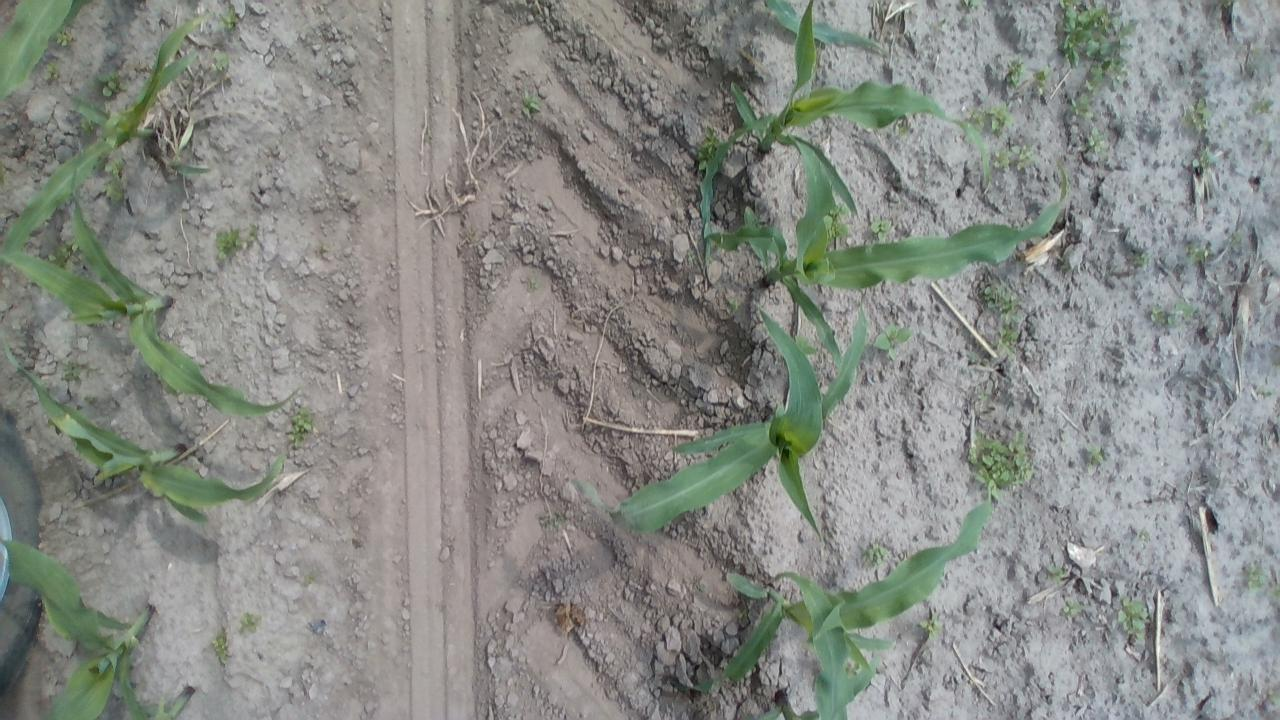Maize: (710, 138, 1082, 378), (0, 148, 298, 424), (703, 6, 998, 268), (570, 299, 876, 532), (697, 494, 1008, 706), (0, 332, 289, 524), (0, 6, 208, 257), (0, 535, 175, 720), (759, 1, 890, 74), (3, 0, 86, 103), (748, 657, 878, 720), (134, 682, 202, 718)
Weeds: (1056, 0, 1128, 80), (963, 429, 1034, 496), (980, 278, 1028, 356), (212, 224, 262, 264), (1114, 594, 1152, 642), (95, 155, 131, 204), (966, 101, 1020, 133), (872, 322, 914, 359), (1148, 296, 1198, 326), (286, 402, 316, 451), (1093, 56, 1133, 91), (824, 200, 854, 244), (1182, 94, 1212, 134), (54, 358, 95, 387), (693, 124, 720, 168), (44, 239, 82, 270), (209, 627, 235, 667), (518, 87, 545, 124), (95, 69, 128, 99), (858, 540, 892, 568), (1068, 88, 1096, 122), (1001, 56, 1027, 92), (1183, 239, 1216, 265), (1241, 559, 1267, 592), (1085, 124, 1110, 157), (866, 216, 898, 241), (538, 510, 567, 536), (1058, 596, 1087, 622), (236, 609, 264, 635), (38, 58, 62, 88), (917, 615, 945, 640), (1191, 144, 1216, 172), (970, 384, 996, 410), (219, 7, 243, 35), (1011, 143, 1036, 169), (1044, 562, 1069, 588), (1082, 441, 1106, 468), (208, 50, 233, 75), (1249, 93, 1274, 118), (1032, 68, 1050, 99), (1128, 248, 1152, 271), (793, 333, 815, 358), (54, 26, 76, 48), (892, 118, 914, 140), (991, 147, 1012, 169), (299, 569, 320, 590), (1227, 226, 1247, 248), (1132, 526, 1154, 546), (1265, 683, 1279, 712), (972, 348, 992, 368), (844, 660, 863, 680), (1258, 132, 1274, 154), (956, 0, 984, 11), (725, 296, 740, 314), (1210, 1, 1238, 10), (1256, 384, 1270, 400), (526, 276, 542, 290), (1267, 584, 1280, 600), (687, 250, 698, 262), (738, 611, 748, 619), (1060, 433, 1068, 443), (1061, 264, 1070, 270), (322, 244, 329, 250)
